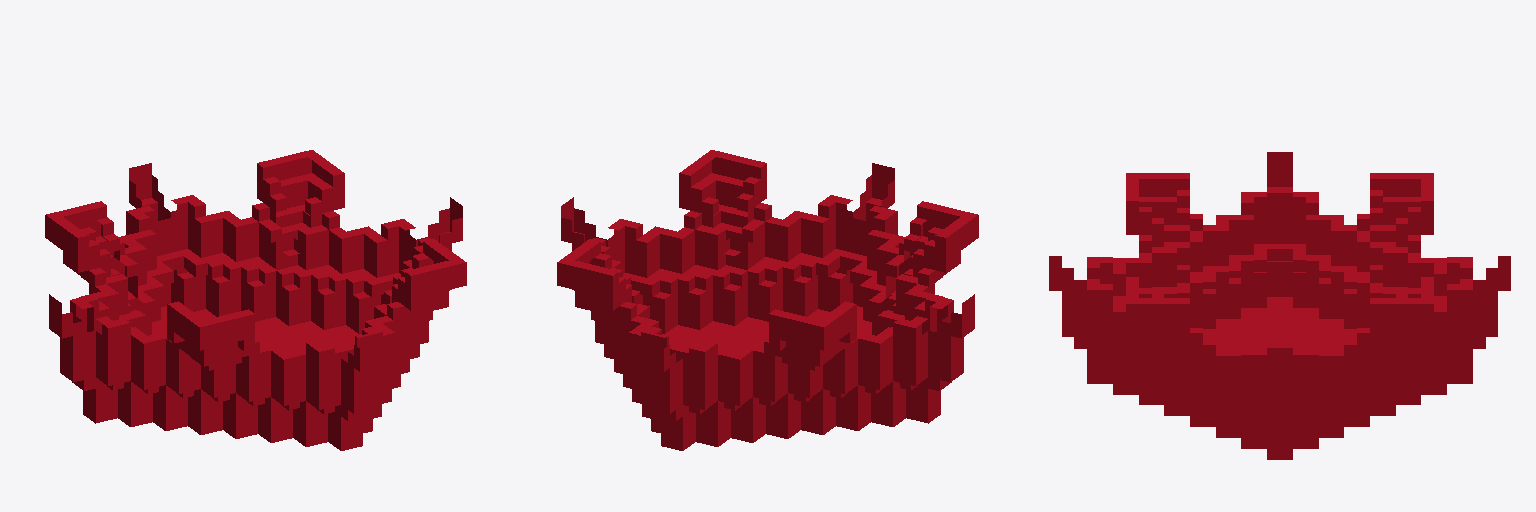
3 renders of one model, left to right at view 1: azimuth 30°, elevation 25°; view 2: azimuth 150°, elevation 25°; view 3: azimuth 270°, elevation 25°, orthographic.
Parts seen in each view (by area): view 1: object 1; view 2: object 1; view 3: object 1.
Boxes of the visible parts, x1=… form: object 1: x1=45, y1=150, x2=466, y2=450; object 1: x1=557, y1=150, x2=978, y2=450; object 1: x1=1049, y1=152, x2=1510, y2=459.
Size of the model in its own units: 3.6 by 2.1 by 3.6.
1 materials, 1 textured.